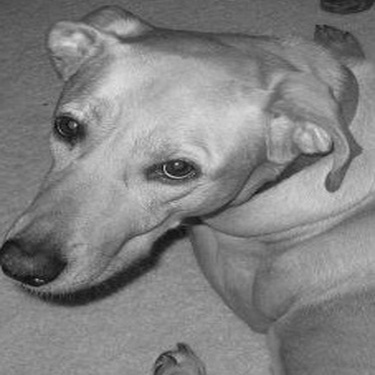dog: (5, 3, 371, 371)
